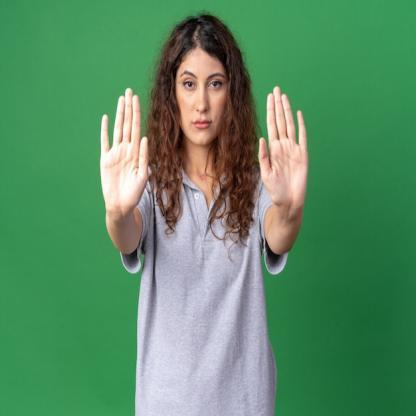stop: (252, 82, 314, 214), (96, 82, 152, 220)
